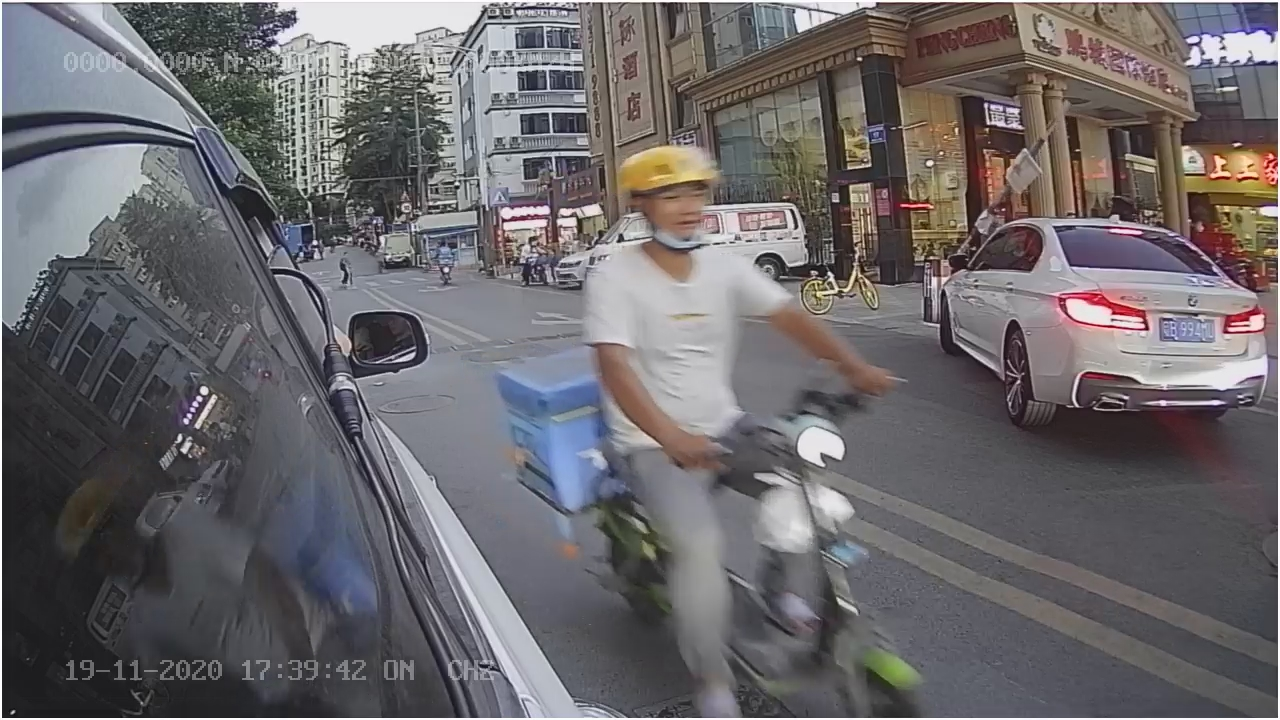person: (588, 153, 756, 419)
